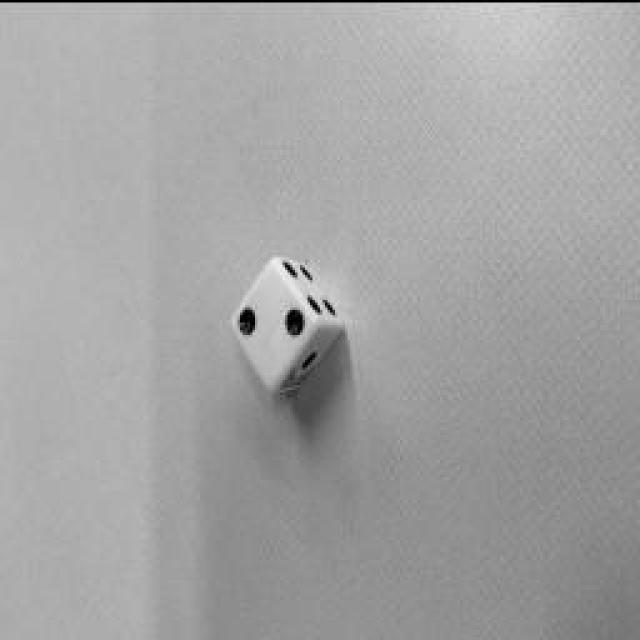dice_2: (232, 258, 316, 388)
